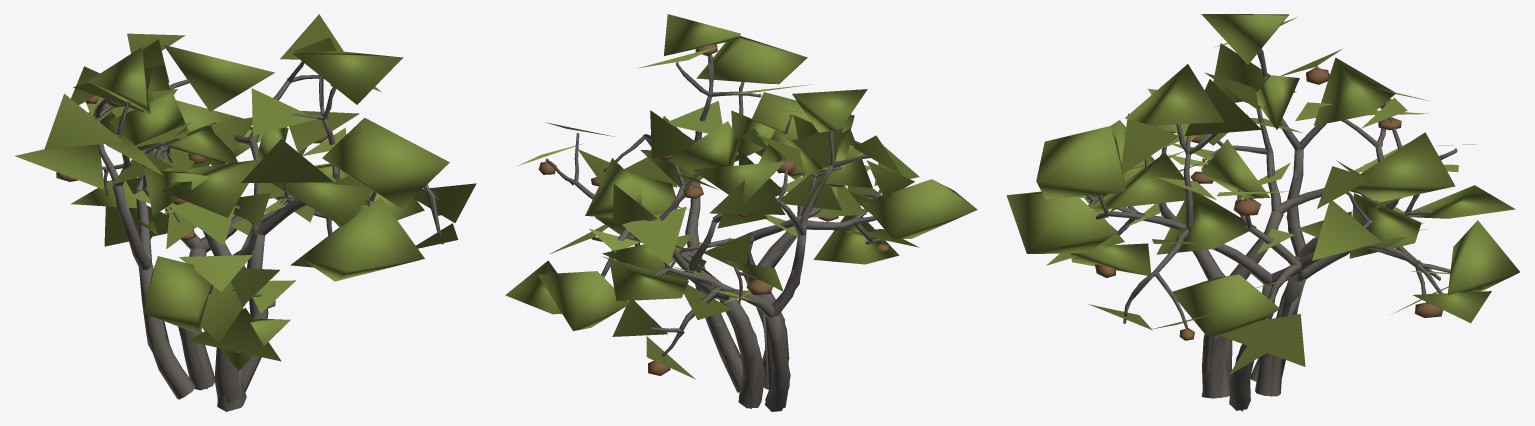
The model's file is scrub_oak_5.glb.
3 renders of one model, left to right at view 1: azimuth 30°, elevation 25°; view 2: azimuth 150°, elevation 25°; view 3: azimuth 270°, elevation 25°, orthographic. The views are drawn at different scales.
Parts seen in each view (by area): view 1: ScrubOak_LOD_Far_Foliage, ScrubOak_LimbWood_2, ScrubOak_LOD_Far_Bark, ScrubOak_LimbWood_0, ScrubOak_LimbWood_3, ScrubOak_LimbWood_1; view 2: ScrubOak_LOD_Far_Foliage, ScrubOak_LimbWood_2, ScrubOak_LOD_Far_Bark, ScrubOak_LimbWood_1, ScrubOak_LimbWood_0, ScrubOak_LimbWood_3; view 3: ScrubOak_LOD_Far_Foliage, ScrubOak_LimbWood_0, ScrubOak_LOD_Far_Bark, ScrubOak_LimbWood_3, ScrubOak_LimbWood_1, ScrubOak_LimbWood_2.
Part boxes in pixels (x1,y1,x2,y2): ScrubOak_LOD_Far_Foliage: (15, 14, 476, 370); ScrubOak_LimbWood_2: (94, 99, 195, 399); ScrubOak_LOD_Far_Bark: (93, 62, 440, 411); ScrubOak_LimbWood_0: (234, 61, 441, 392); ScrubOak_LimbWood_3: (102, 141, 294, 406); ScrubOak_LimbWood_1: (147, 79, 332, 390); ScrubOak_LOD_Far_Foliage: (505, 14, 977, 379); ScrubOak_LimbWood_2: (650, 131, 869, 411); ScrubOak_LOD_Far_Bark: (563, 55, 879, 410); ScrubOak_LimbWood_1: (592, 163, 765, 408); ScrubOak_LimbWood_0: (546, 54, 758, 392); ScrubOak_LimbWood_3: (666, 117, 882, 389); ScrubOak_LOD_Far_Foliage: (1006, 14, 1519, 374); ScrubOak_LimbWood_0: (1095, 124, 1450, 410); ScrubOak_LOD_Far_Bark: (1087, 50, 1453, 411); ScrubOak_LimbWood_3: (1087, 98, 1378, 398); ScrubOak_LimbWood_1: (1237, 100, 1456, 396); ScrubOak_LimbWood_2: (1250, 48, 1438, 381).
Size of what is drawn, in the model's own units: 3.25 by 2.82 by 3.66.
